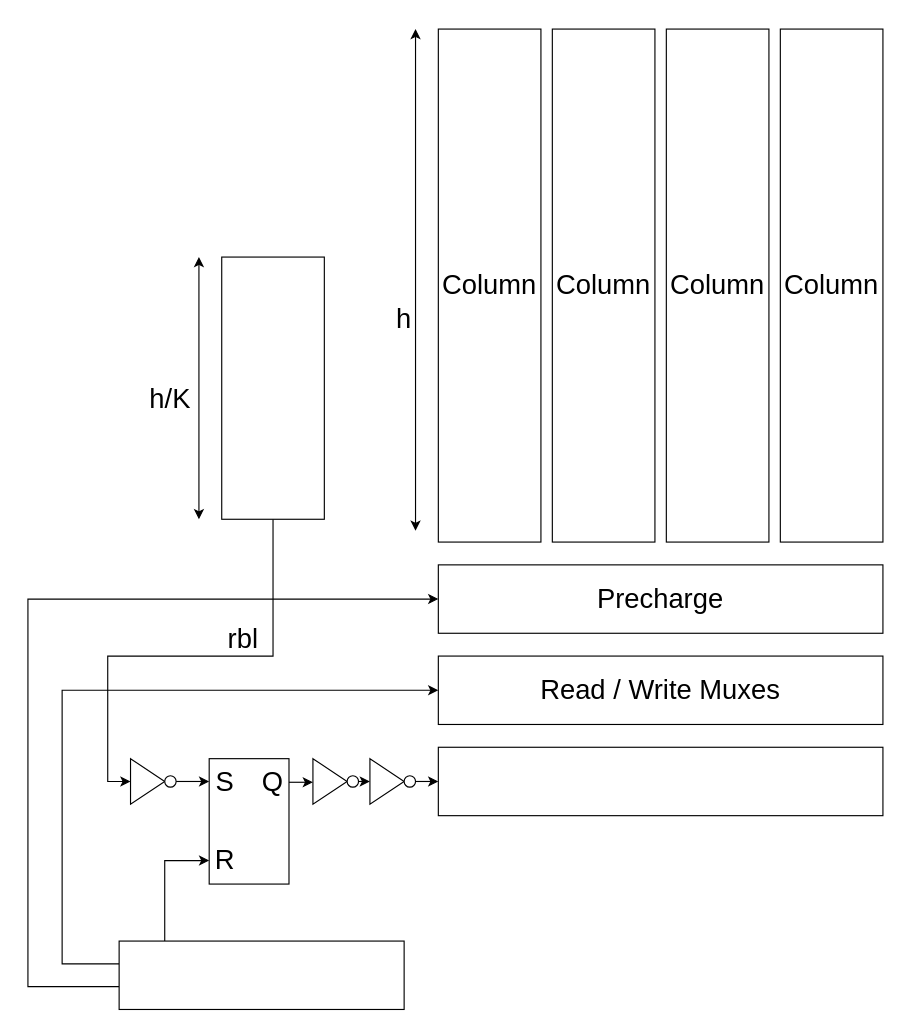
This 903x1029 diagram has some shape labels left out. The shapes that lost their labels are listed below. From the top down, each one's box as (x1, y1, x2, y2) in pixels, then its label:
(221, 256, 324, 519): Replica Column
(437, 746, 883, 816): Sense Amplifiers
(118, 940, 404, 1009): Controller
